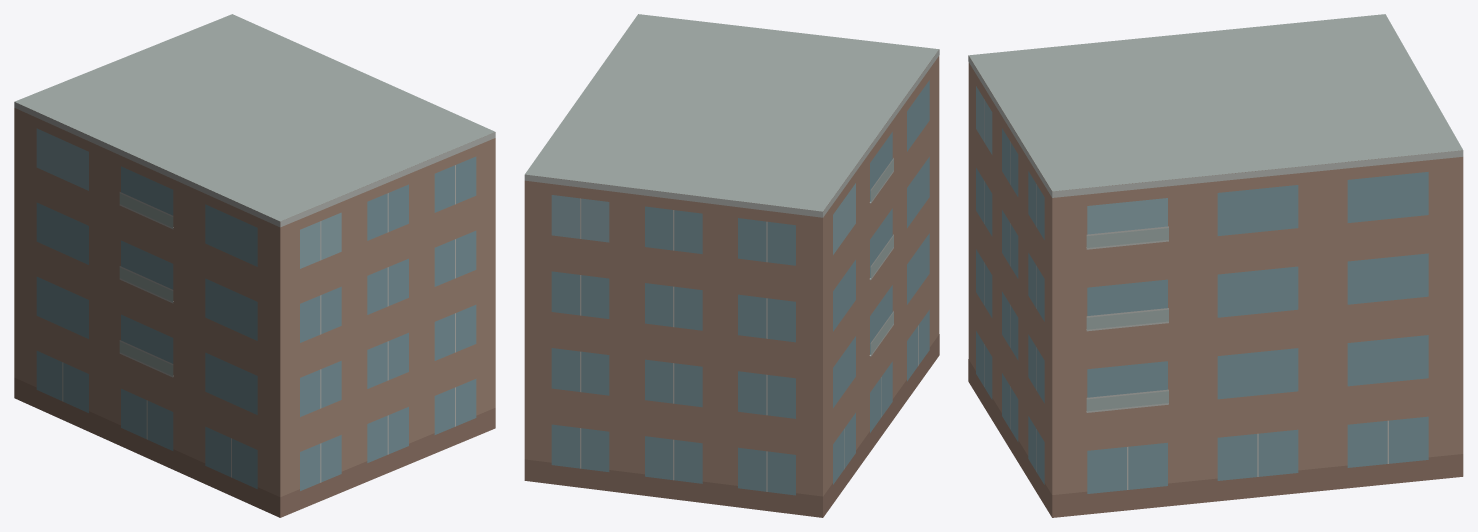
File: survey-upis-32603465.glb
3 renders of one model, left to right at view 1: azimuth 30°, elevation 25°; view 2: azimuth 150°, elevation 25°; view 3: azimuth 270°, elevation 25°, orthographic. The views are drawn at different scales.
Visible parts, largest first — view 1: survey-upis-32603465.tmp; view 2: survey-upis-32603465.tmp; view 3: survey-upis-32603465.tmp.
Part boxes in pixels (x1=…): survey-upis-32603465.tmp: x1=14, y1=14, x2=495, y2=517; survey-upis-32603465.tmp: x1=524, y1=14, x2=939, y2=517; survey-upis-32603465.tmp: x1=968, y1=14, x2=1463, y2=517.
Size of the model in its own units: 14.23 by 12.2 by 16.77.
